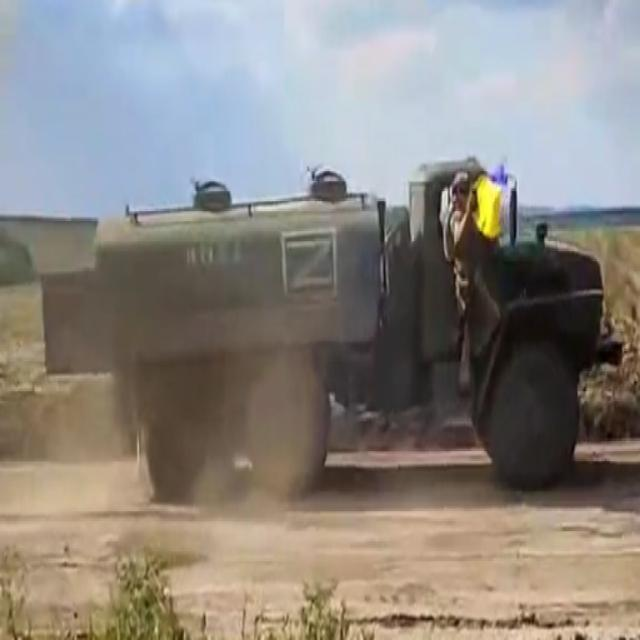TRUCK: (28, 144, 622, 496)
